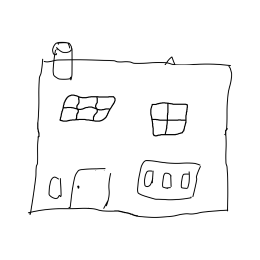chimney: (51, 33, 81, 85)
closed_window: (131, 156, 208, 203), (54, 90, 117, 131), (147, 99, 196, 141)
door: (69, 164, 117, 214)
single_line_roof: (24, 54, 238, 88)
wall: (25, 84, 237, 222)
